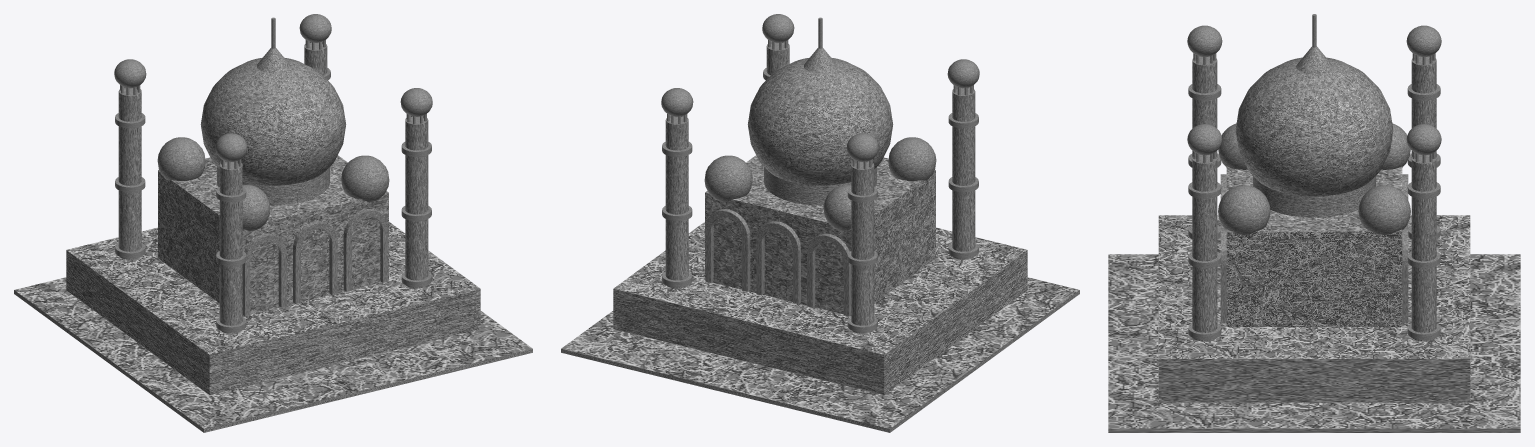
File: TAJ_MAHAL.glb
The picture shows the model from 3 angles, left to right: view 1: azimuth 30°, elevation 25°; view 2: azimuth 150°, elevation 25°; view 3: azimuth 270°, elevation 25°; orthographic projection. The views are drawn at different scales.
Visible parts, largest first — view 1: Cube.001, Cube, Cube.002, Sphere, Cylinder.014, Cylinder.002, Cylinder.026, Sphere.007, Sphere.006, Cylinder, Sphere.005, Sphere.002 (+5 smaller); view 2: Cube.001, Cube, Cube.002, Sphere, Cylinder.002, Cylinder.014, Cylinder.038, Sphere.008, Sphere.005, Cylinder, Sphere.006, Sphere.001 (+5 smaller); view 3: Cube.001, Cube, Cube.002, Sphere, Cylinder.026, Cylinder.038, Cylinder, Sphere.007, Sphere.008, Cylinder.002, Cylinder.014, Sphere.001 (+8 smaller).
Boxes of the visible parts, x1,y1,x2,y2 form: Cube.001: (66,222,480,394); Cube: (14,277,532,432); Cube.002: (158,155,388,315); Sphere: (200,57,346,185); Cylinder.014: (118,87,141,259); Cylinder.002: (219,161,242,333); Cylinder.026: (405,116,428,288); Sphere.007: (341,155,389,202); Sphere.006: (157,137,205,180); Cylinder: (217,167,329,205); Sphere.005: (242,184,270,231); Sphere.002: (114,59,146,88); Cube.001: (613,222,1027,394); Cube: (561,277,1079,432); Cube.002: (705,155,935,315); Sphere: (747,57,893,185); Cylinder.002: (952,87,975,259); Cylinder.014: (851,161,874,333); Cylinder.038: (665,116,688,288); Sphere.008: (704,155,752,202); Sphere.005: (888,137,936,180); Cylinder: (764,167,876,205); Sphere.006: (823,184,851,231); Sphere.001: (947,59,979,88); Cube.001: (1158,215,1470,402); Cube: (1108,254,1520,432); Cube.002: (1226,166,1402,326); Sphere: (1235,57,1393,196); Cylinder.026: (1192,154,1217,341); Cylinder.038: (1411,154,1436,341); Cylinder: (1253,176,1375,217); Sphere.007: (1218,185,1270,235); Sphere.008: (1358,185,1410,235); Cylinder.002: (1192,56,1217,157); Cylinder.014: (1411,56,1436,157); Sphere.001: (1187,25,1222,56).
Size of the model in its own units: 1.88 by 1.66 by 1.88.
Materials: 4 (4 with a texture image).
